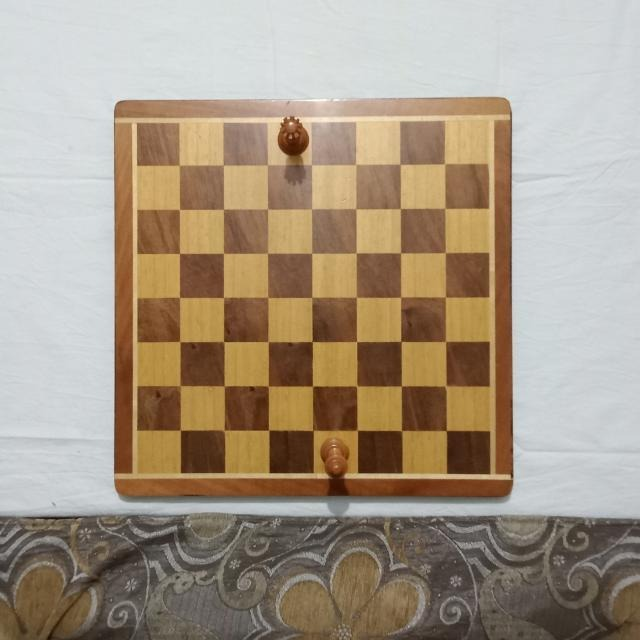white-king: (318, 435, 353, 478)
white-queen: (277, 113, 311, 156)
